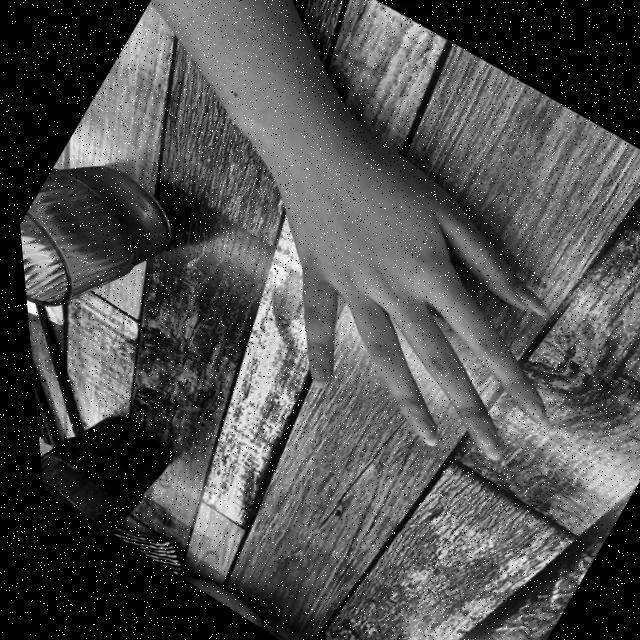no-gloves: (200, 110, 638, 503)
